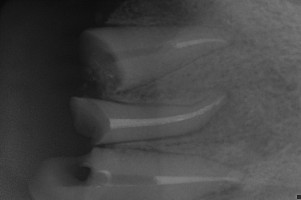Furcation Involvement: (190, 79, 280, 159), (200, 182, 249, 200)
